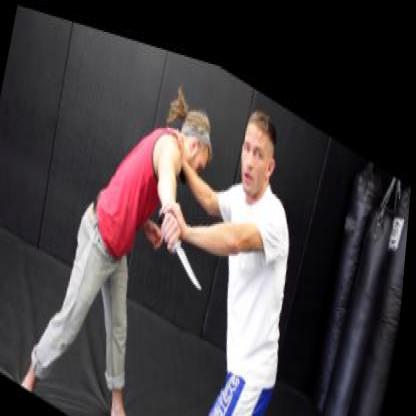knife: (148, 189, 219, 289)
